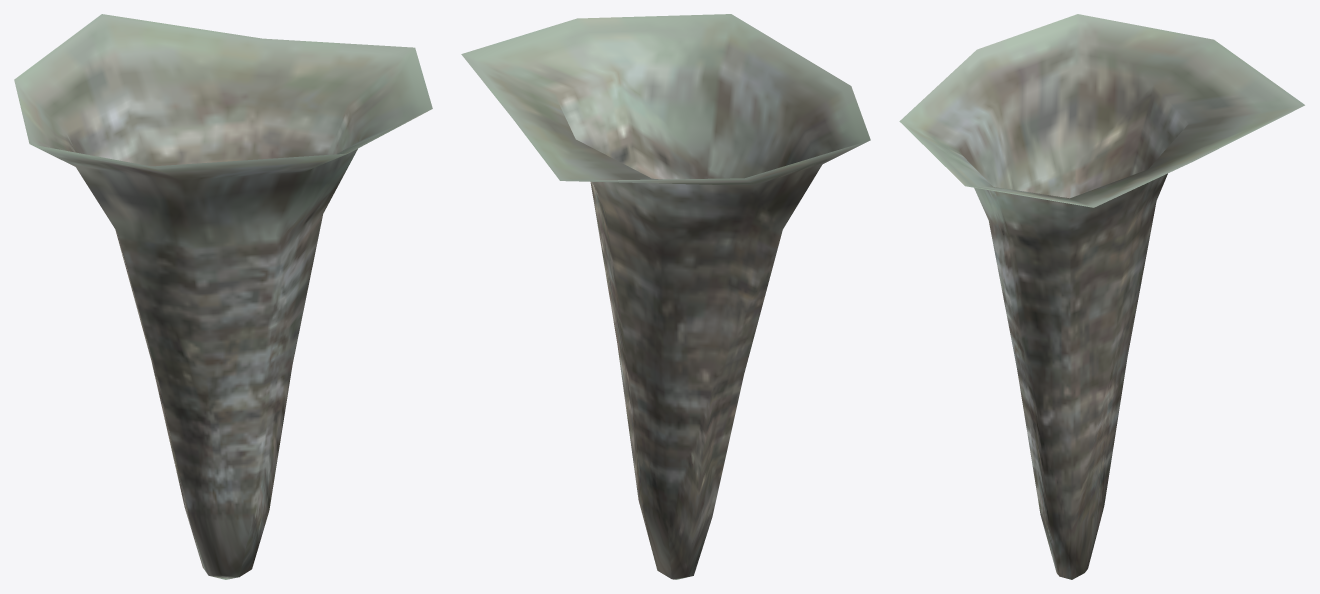
File: TROLLHOLE02_PS-SECRETSTALAG18.fbx
The picture shows the model from 3 angles, left to right: view 1: azimuth 30°, elevation 25°; view 2: azimuth 150°, elevation 25°; view 3: azimuth 270°, elevation 25°; orthographic projection. The views are drawn at different scales.
Parts seen in each view (by area): view 1: TROLLHOLE02_PS-SECRETSTALAG18; view 2: TROLLHOLE02_PS-SECRETSTALAG18; view 3: TROLLHOLE02_PS-SECRETSTALAG18.
Boxes of the visible parts, box(x1,y1,x2,y2) form: TROLLHOLE02_PS-SECRETSTALAG18: box(14, 14, 432, 579); TROLLHOLE02_PS-SECRETSTALAG18: box(461, 14, 870, 579); TROLLHOLE02_PS-SECRETSTALAG18: box(899, 14, 1304, 579).
Size of the model in its own units: 33078 by 38722 by 30154.
Materials: 1 (1 with a texture image).
